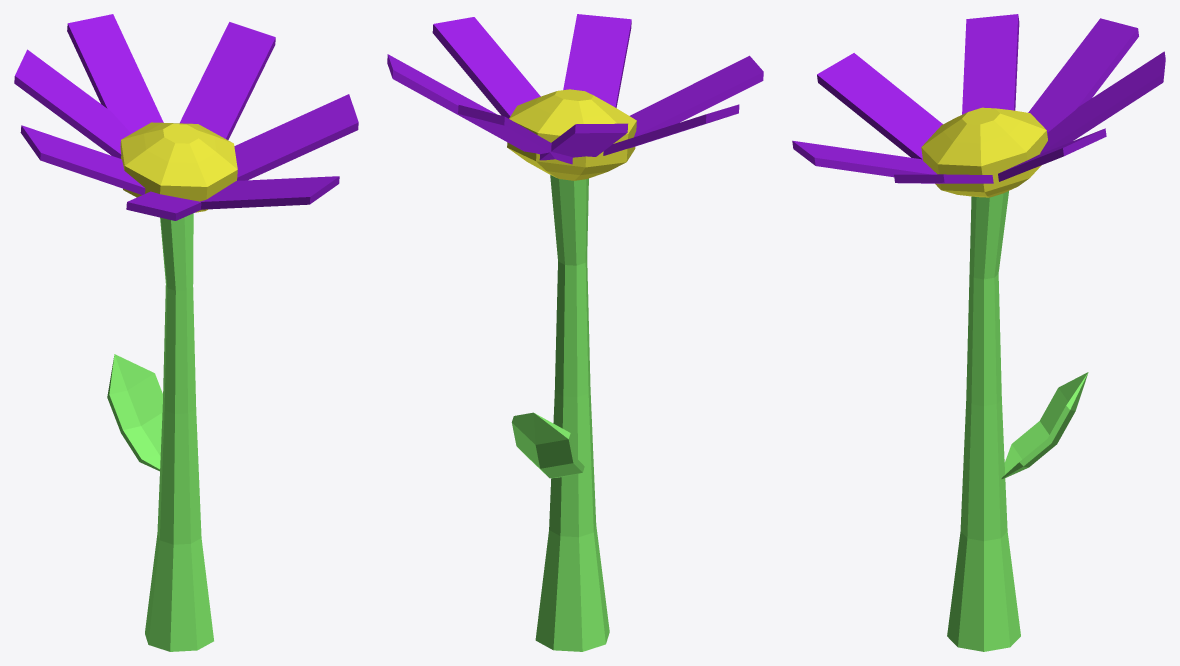
File: florvioleta.fbx
3 renders of one model, left to right at view 1: azimuth 30°, elevation 25°; view 2: azimuth 150°, elevation 25°; view 3: azimuth 270°, elevation 25°, orthographic. The views are drawn at different scales.
Visible parts, largest first — view 1: Circle.002; view 2: Circle.002; view 3: Circle.002.
Boxes of the visible parts, x1,y1,x2,y2 form: Circle.002: (14, 14, 358, 651); Circle.002: (387, 14, 763, 651); Circle.002: (792, 14, 1165, 651).
Size of the model in its own units: 72.65 by 130 by 76.68.
